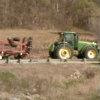Tractor: (46, 24, 100, 69)
